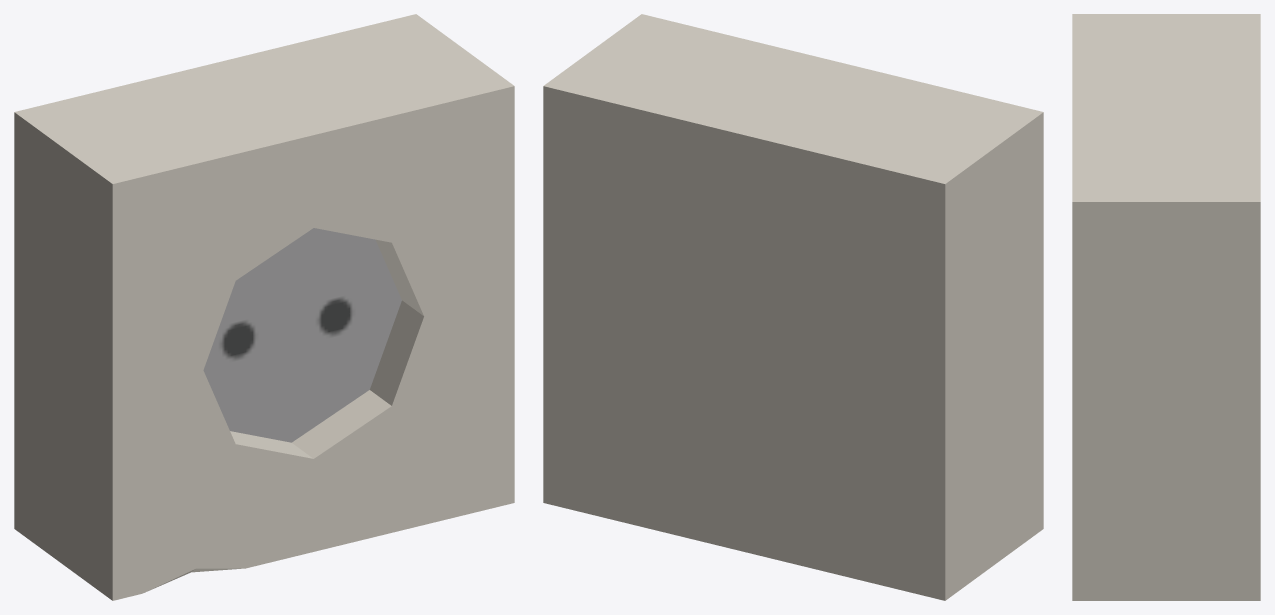
Rendered from Wh_Power_Outlet.fbx.
3 views of the same model, side by side, from view 1: azimuth 30°, elevation 25°; view 2: azimuth 150°, elevation 25°; view 3: azimuth 270°, elevation 25° (orthographic). The views are drawn at different scales.
Visible parts, largest first — view 1: Cube.1021; view 2: Cube.1021; view 3: Cube.1021.
Boxes of the visible parts, <box> form: Cube.1021: <box>14,14,514,600</box>; Cube.1021: <box>543,14,1043,600</box>; Cube.1021: <box>1072,14,1260,600</box>.
Size of the model in its own units: 12.65 by 12.53 by 5.37.
